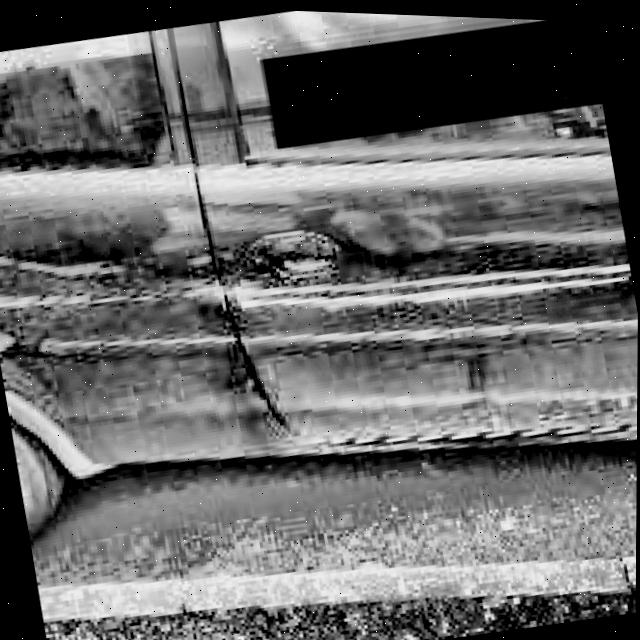door_scratch: (240, 230, 632, 346)
